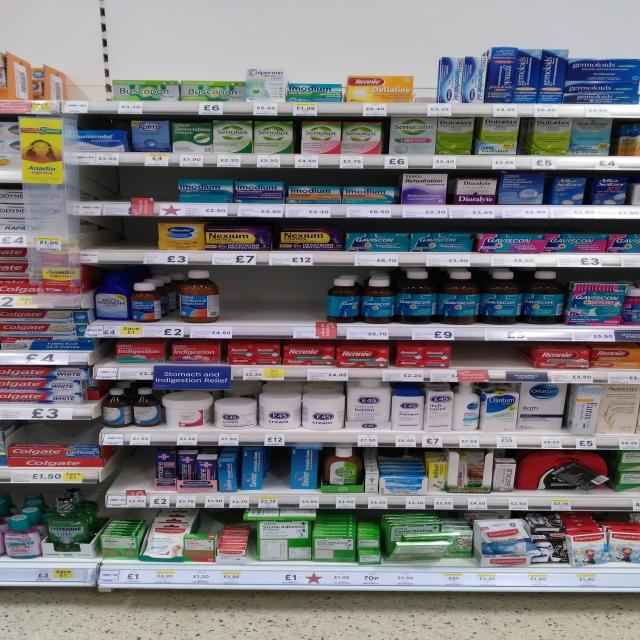void: (273, 268, 324, 337), (62, 43, 110, 114), (232, 268, 270, 336), (128, 165, 175, 216), (78, 164, 124, 214), (411, 40, 438, 116), (79, 216, 117, 262), (488, 344, 530, 382), (120, 216, 154, 262), (134, 447, 159, 507), (451, 342, 487, 383), (108, 446, 132, 507)
